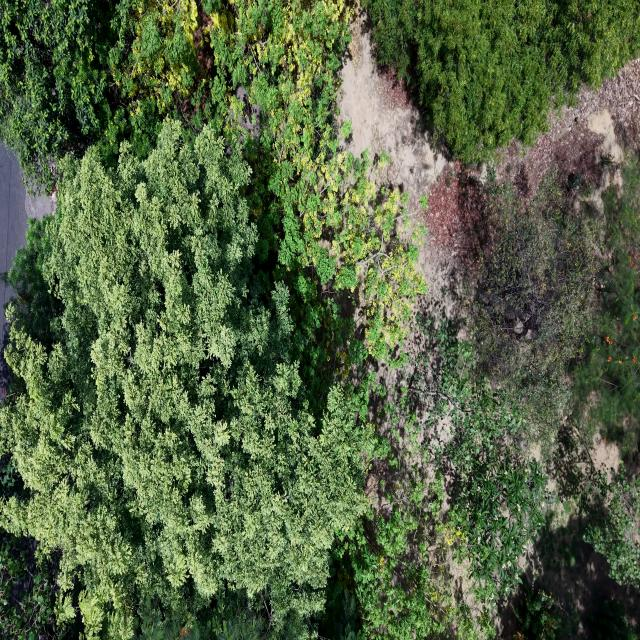DRY_AREA: (338, 16, 486, 316), (338, 16, 486, 315), (338, 17, 485, 316), (338, 16, 485, 282), (338, 17, 446, 224), (337, 17, 446, 215), (494, 59, 639, 204), (498, 60, 639, 203), (496, 59, 639, 199), (338, 19, 445, 205), (0, 145, 53, 273)
PATHWAYS: (0, 145, 53, 272)
VEGETATION_TREE: (0, 0, 639, 639), (3, 3, 422, 637), (0, 123, 370, 638), (1, 0, 420, 375), (342, 159, 639, 638), (474, 156, 639, 593), (1, 0, 350, 184), (344, 325, 545, 639), (474, 156, 639, 454), (0, 0, 247, 189), (365, 0, 639, 160), (473, 171, 600, 447), (434, 334, 544, 601), (577, 157, 639, 588), (0, 0, 117, 188), (327, 152, 425, 359), (577, 156, 639, 457), (0, 531, 72, 639), (0, 534, 67, 639), (583, 465, 639, 588), (515, 579, 576, 639), (590, 600, 636, 639)
